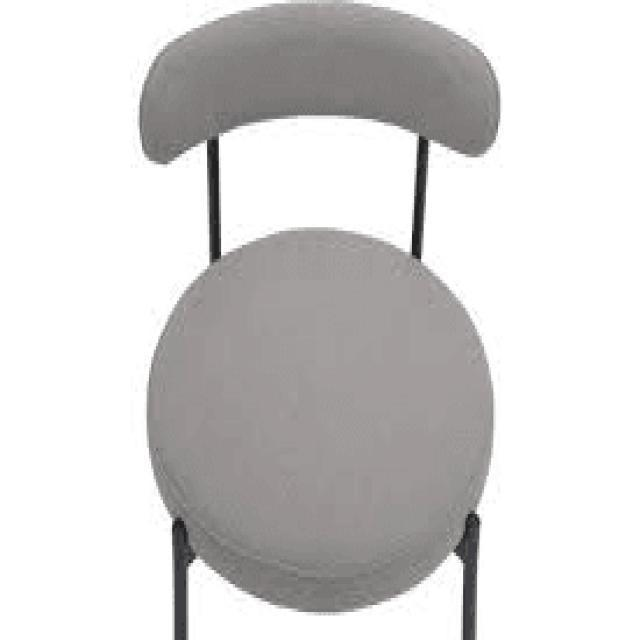chair: (132, 0, 506, 640), (140, 0, 500, 611)
